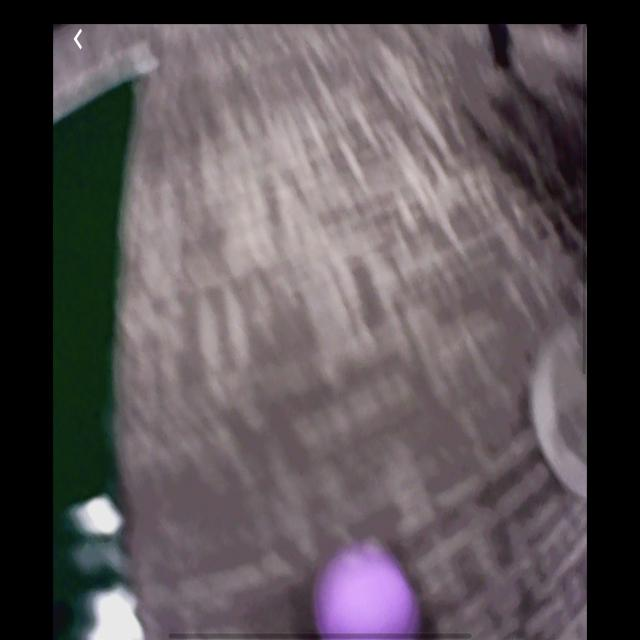ball: (316, 548, 419, 640)
